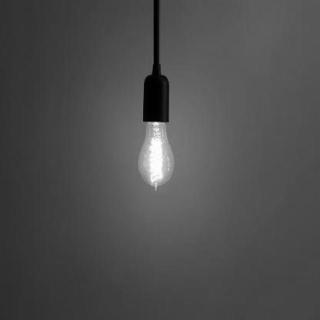other: (139, 104, 173, 200)
